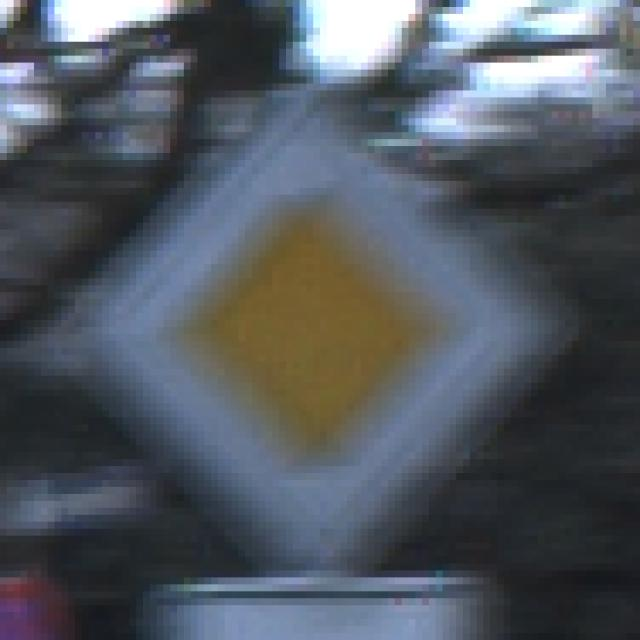Main Road: (56, 57, 587, 585)
